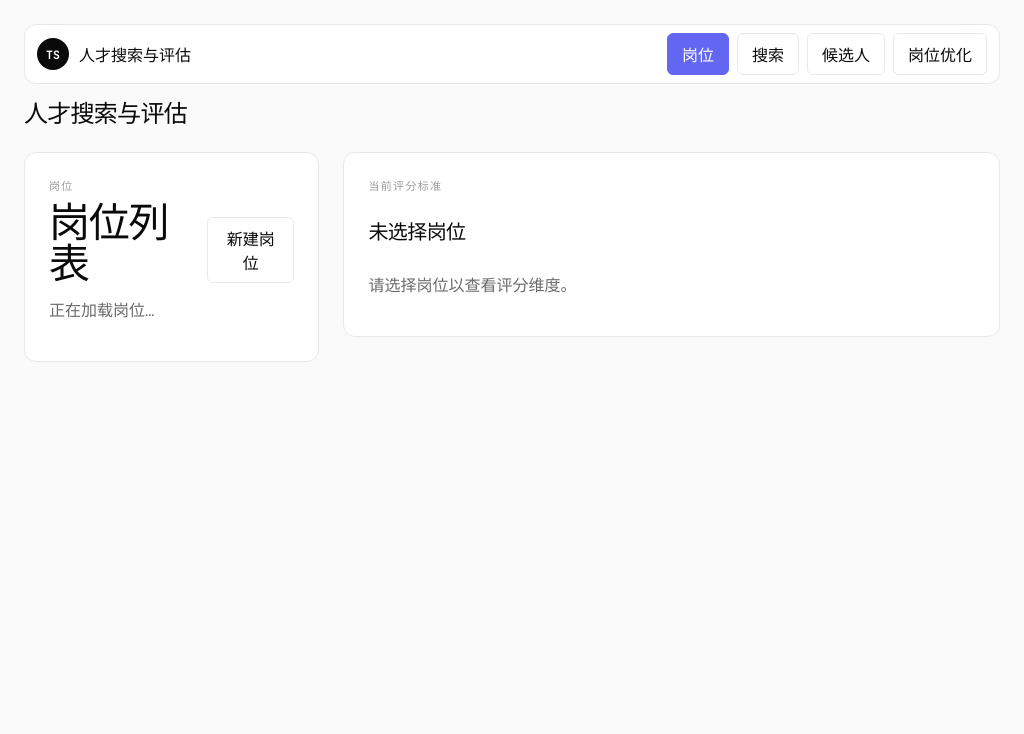
Test case: switches between shell tabs without routing dependencies
Click the button "搜索".
click(768, 54)  # box [737,33,799,75]
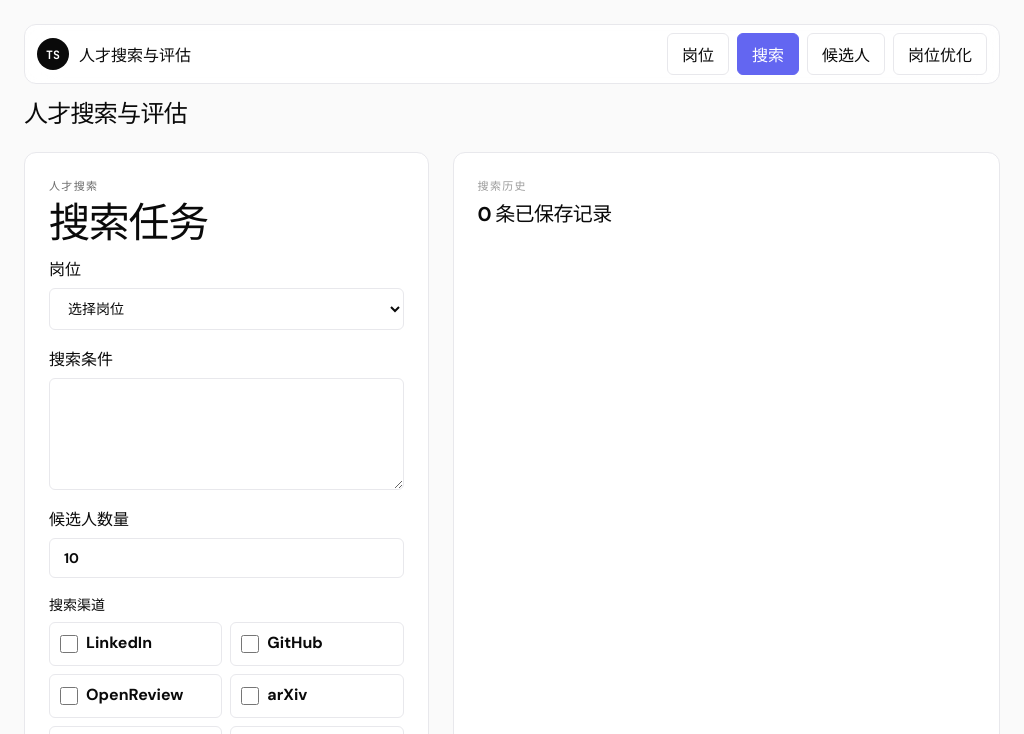
Expected: the heading "搜索任务" is shown, [49,196,208,250]
